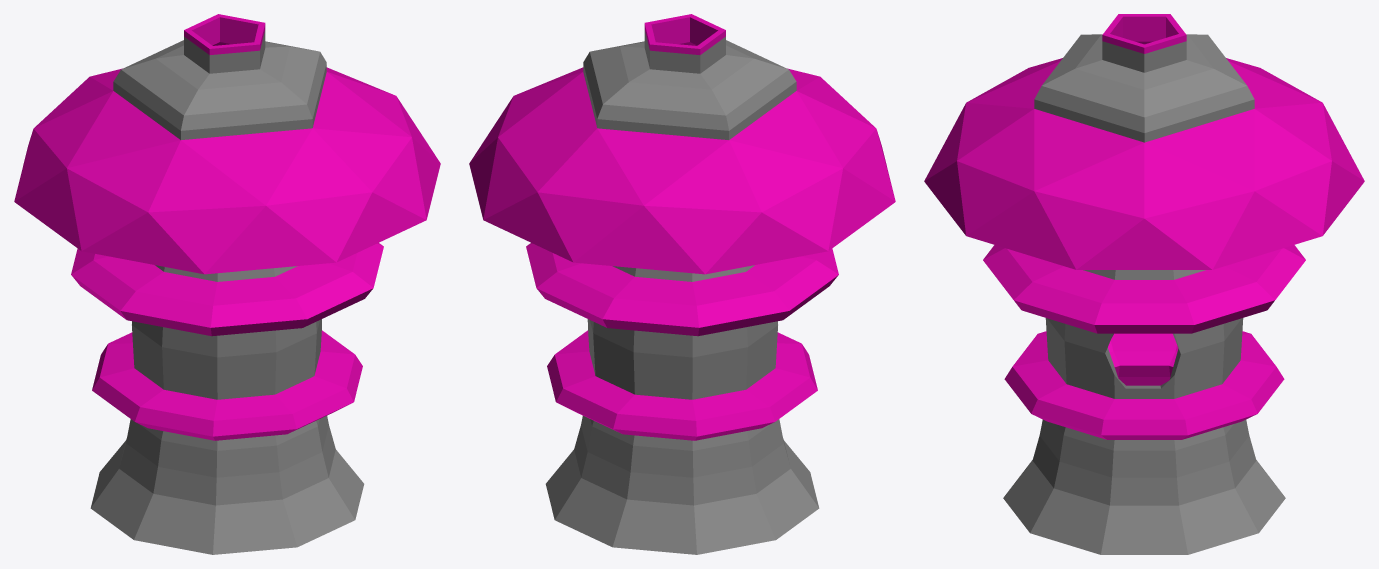
File: FinalTree.fbx
3 renders of one model, left to right at view 1: azimuth 30°, elevation 25°; view 2: azimuth 150°, elevation 25°; view 3: azimuth 270°, elevation 25°, orthographic.
Visible parts, largest first — view 1: Icosphere; view 2: Icosphere; view 3: Icosphere.
Part boxes in pixels (box(x1,y1,x2,y2)): Icosphere: box(14, 14, 440, 554); Icosphere: box(469, 14, 895, 554); Icosphere: box(924, 14, 1364, 554).
Size of the model in its own units: 606 by 749 by 638.
